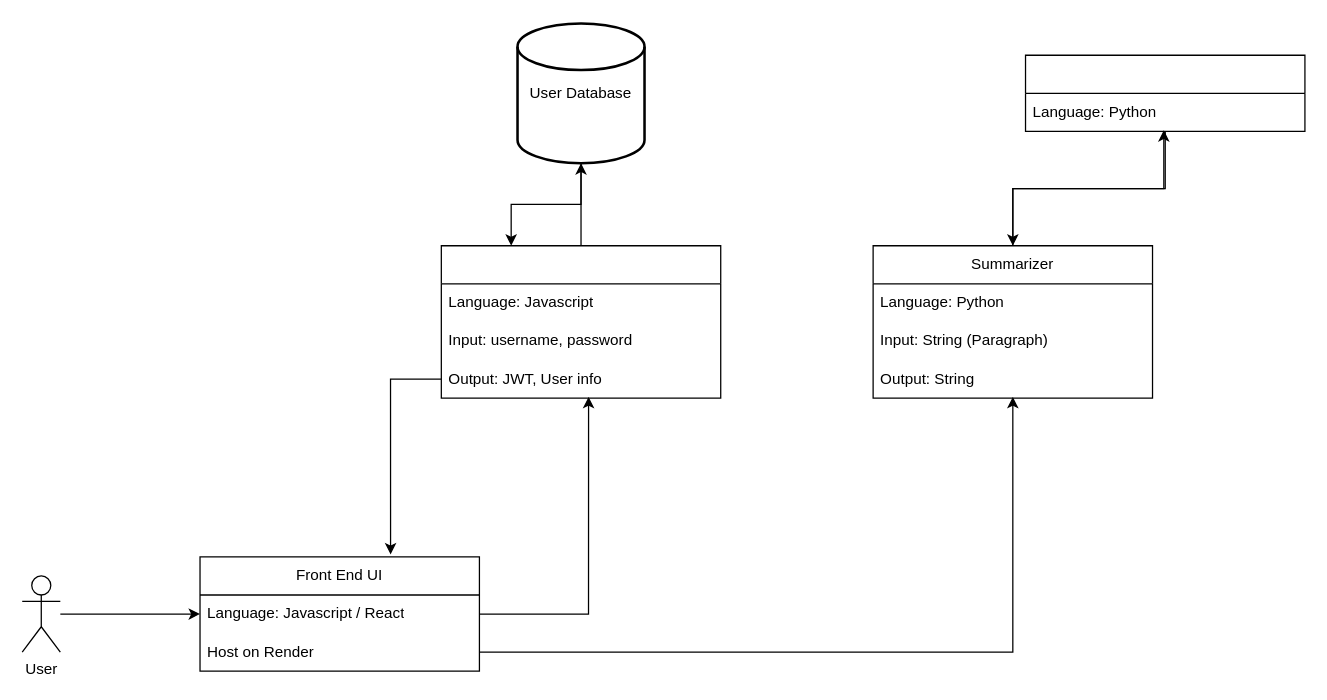
Some shapes in this 1327 by 700 pixel diagram are drawn without their labels. Here are the shapes that lost their labels. From the top down, the box of each, then its label:
(1024, 54, 1305, 131): BART-larg-cnn
(440, 244, 721, 398): User Authenication
